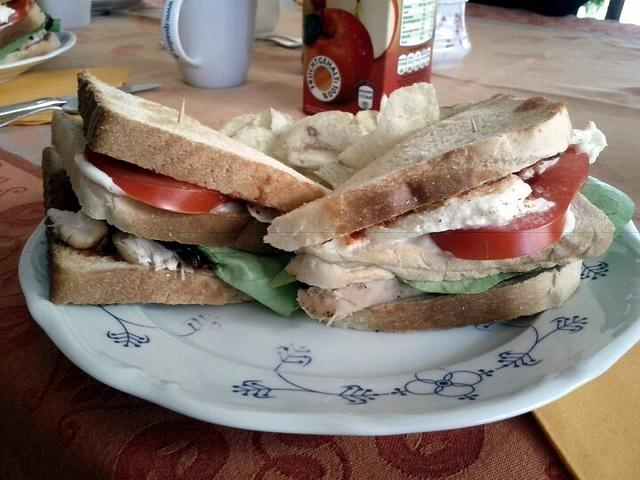lettuce: (195, 244, 302, 318), (580, 175, 636, 240)
tomato: (428, 147, 590, 260), (83, 145, 239, 214), (7, 0, 34, 22)
